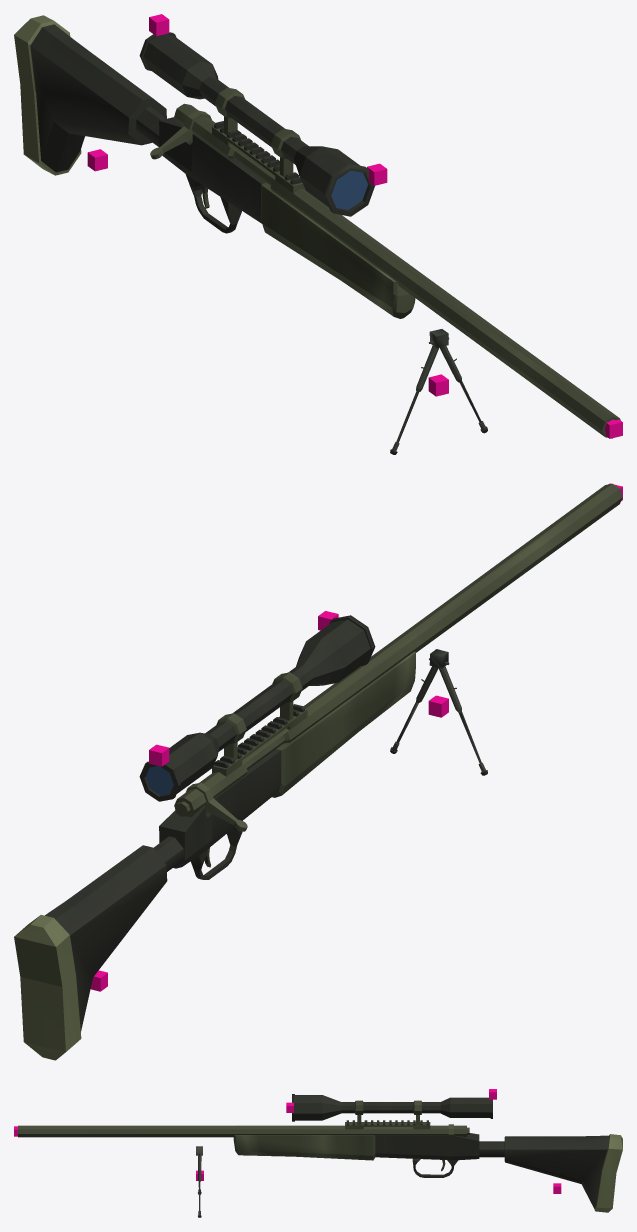
3 renders of one model, top to bottom at view 1: azimuth 30°, elevation 25°; view 2: azimuth 150°, elevation 25°; view 3: azimuth 270°, elevation 25°, orthographic. The views are drawn at different scales.
Parts seen in each view (by area): view 1: sr1; view 2: sr1; view 3: sr1.
Boxes of the visible parts, <box> form: sr1: <box>14,15,620,454</box>; sr1: <box>14,483,622,1060</box>; sr1: <box>18,1094,622,1217</box>.
Size of the model in its own units: 0.1117 by 0.2522 by 1.16.
Materials: 2 (1 with a texture image).
